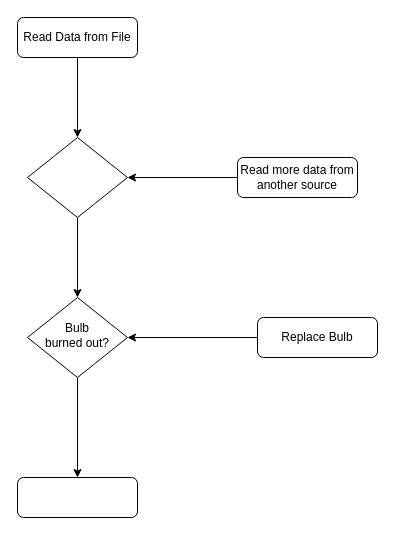
This 395x535 diagram has some shape labels left out. The centre of each missing label's shape, as x and y in pixels:
Final Result: (x=77, y=497)
Processing: (x=77, y=177)
